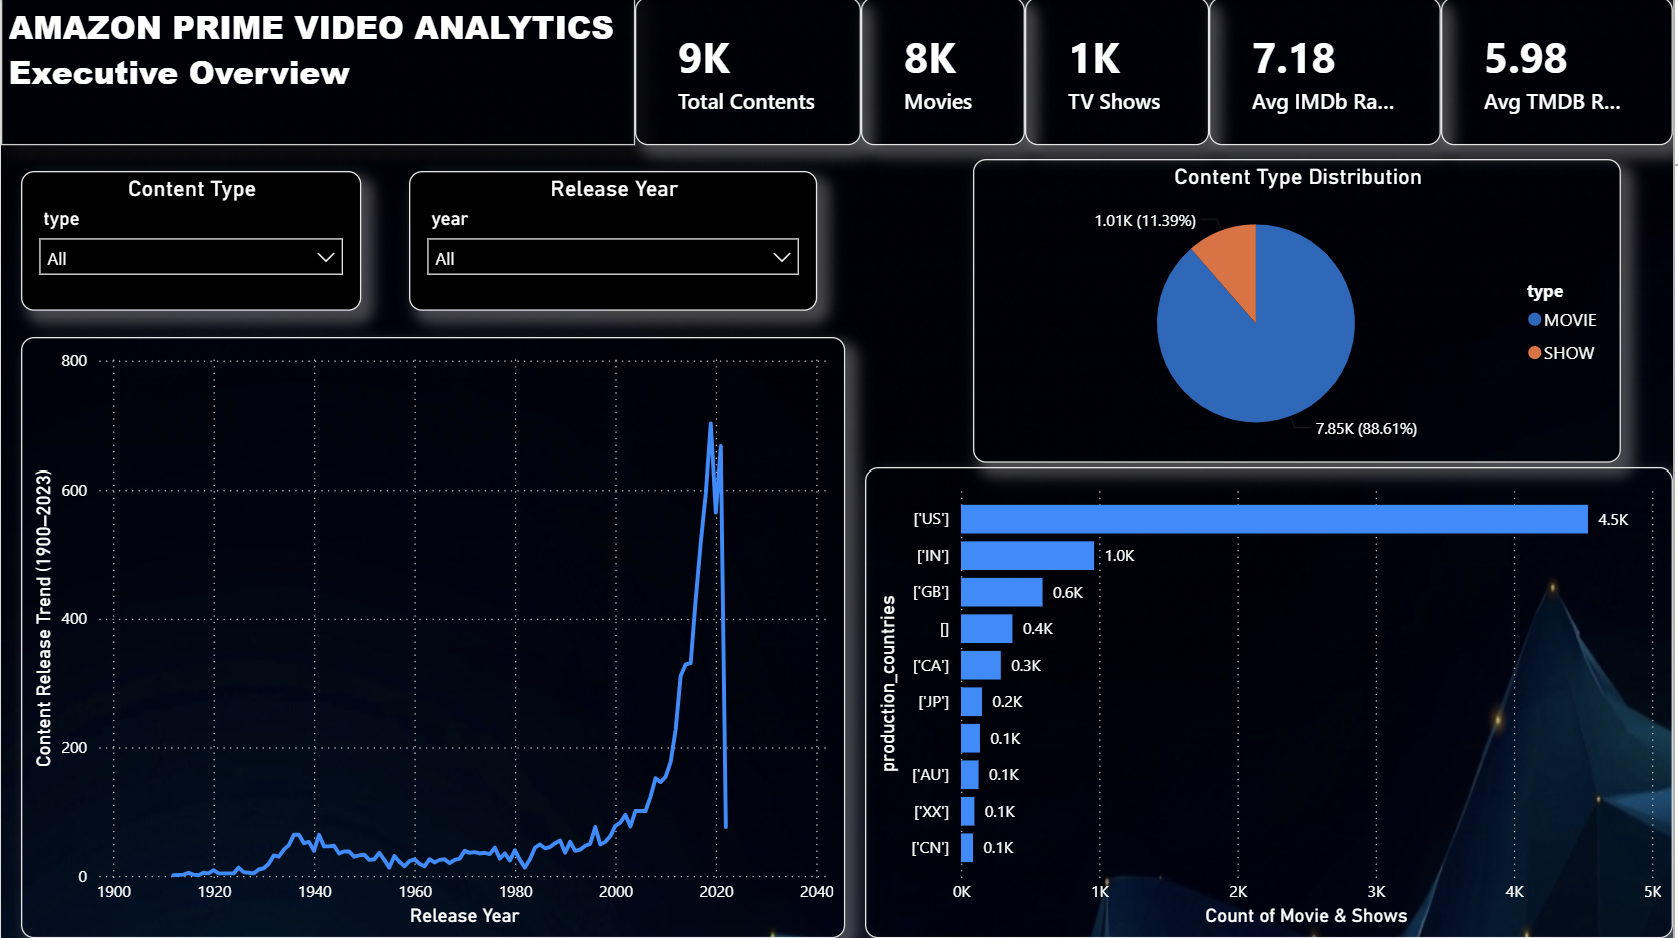

The page's visual inventory and layout, read from the dashboard file:
{"tool":"powerbi","page":{"name":"Page 1","canvas":[1280,720],"ordinal":0},"visuals":[{"type":"textbox","box":[0,0,485.4,113.3],"z":0},{"type":"cardVisual","fields":{"Data":["amazon_prime_cleaned.Total Titles"]},"box":[485.4,0,173,113.3],"z":1000},{"type":"cardVisual","fields":{"Data":["amazon_prime_cleaned.Movies"]},"box":[658.4,0,125.6,113.3],"z":2000},{"type":"cardVisual","fields":{"Data":["amazon_prime_cleaned.Average IMDb"]},"box":[924.8,0,177.6,113.3],"z":3000},{"type":"cardVisual","fields":{"Data":["amazon_prime_cleaned.TV Shows"]},"box":[783.9,0,140.9,113.3],"z":4000},{"type":"cardVisual","fields":{"Data":["Avg(amazon_prime_cleaned.tmdb_score)"]},"box":[1102.4,0,177.6,113.3],"z":5000},{"type":"lineChart","fields":{"Y":["Count(amazon_prime_cleaned.id)"],"Category":["amazon_prime_cleaned.release_year"]},"box":[15.3,260.3,630.8,459.3],"z":6000},{"type":"pieChart","title":"Content Type Distribution","fields":{"Y":["Count(amazon_prime_cleaned.id)"],"Category":["amazon_prime_cleaned.type"]},"box":[744.1,124,496.1,232.7],"z":7000},{"type":"barChart","fields":{"Category":["amazon_prime_cleaned.production_countries"],"Y":["Count(amazon_prime_cleaned.id)"]},"box":[661.4,359.8,618.6,359.8],"z":8000},{"type":"slicer","title":"Content Type","fields":{"Values":["amazon_prime_cleaned.type"]},"box":[15.3,133.2,260.3,107.2],"z":9000},{"type":"slicer","title":"Release Year","fields":{"Values":["amazon_prime_cleaned.release_year"]},"box":[312.3,133.2,312.3,107.2],"z":10000}]}

Visuals, with their boxes in screenshot pixels (x1, y1, x2, y2), scaled from the page's 1280x720 canvas onto the 1678x938 screenshot:
textbox: 0/0/636/148
cardVisual - amazon_prime_cleaned.Total Titles: 636/0/863/148
cardVisual - amazon_prime_cleaned.Movies: 863/0/1028/148
cardVisual - amazon_prime_cleaned.Average IMDb: 1212/0/1445/148
cardVisual - amazon_prime_cleaned.TV Shows: 1028/0/1212/148
cardVisual - Avg(amazon_prime_cleaned.tmdb_score): 1445/0/1677/148
lineChart - Count(amazon_prime_cleaned.id) x amazon_prime_cleaned.release_year: 20/339/847/937
"Content Type Distribution" pieChart: 975/162/1626/465
barChart - amazon_prime_cleaned.production_countries x Count(amazon_prime_cleaned.id): 867/469/1677/937
"Content Type" slicer: 20/174/361/313
"Release Year" slicer: 409/174/819/313
